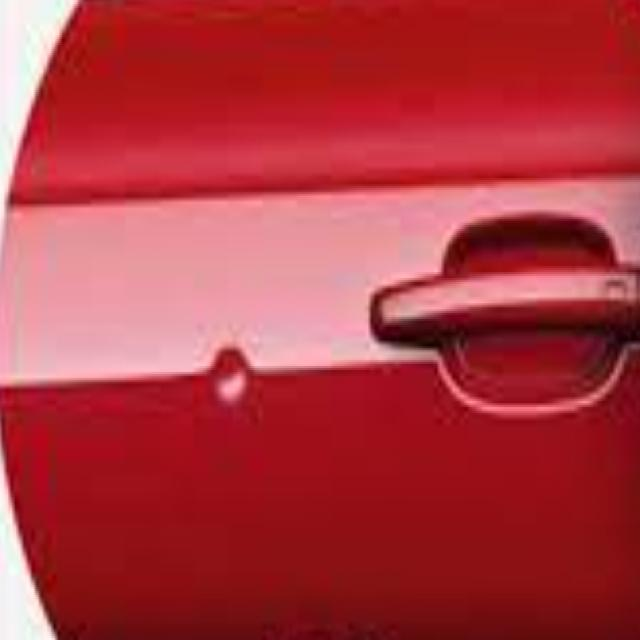dents: (187, 331, 271, 429)
